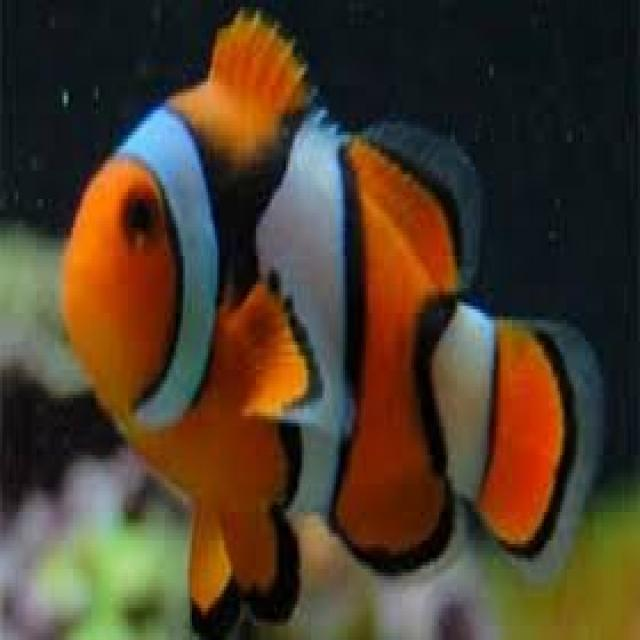ClownFish: (52, 3, 610, 640)
